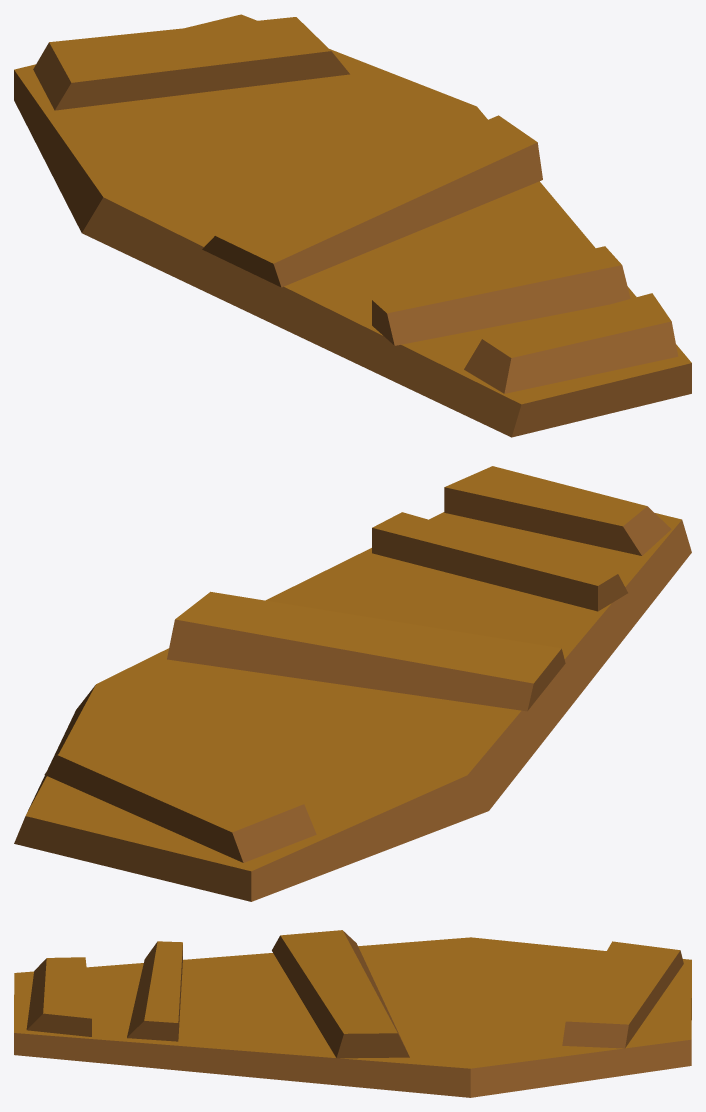
File: caixao_base_tampa_001.fbx
3 renders of one model, top to bottom at view 1: azimuth 30°, elevation 25°; view 2: azimuth 150°, elevation 25°; view 3: azimuth 270°, elevation 25°, orthographic. The views are drawn at different scales.
Visible parts, largest first — view 1: caixao_base_tampa.001; view 2: caixao_base_tampa.001; view 3: caixao_base_tampa.001.
Part boxes in pixels (x1=…): caixao_base_tampa.001: x1=14, y1=14, x2=691, y2=437; caixao_base_tampa.001: x1=14, y1=466, x2=691, y2=901; caixao_base_tampa.001: x1=14, y1=930, x2=691, y2=1097.
Bounding box in the file's own units: 164 × 24.82 × 321.
